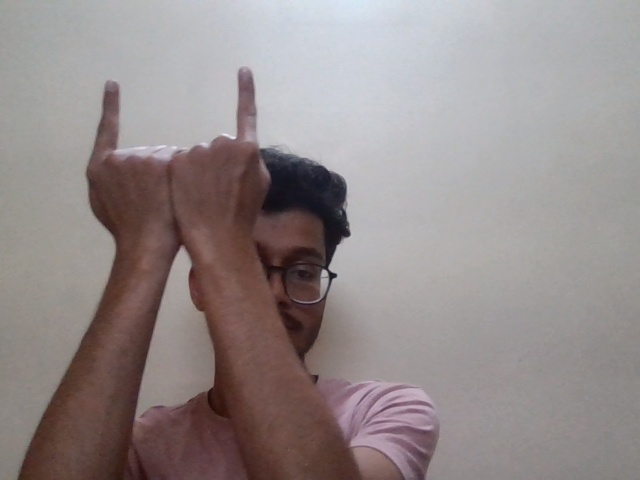when: (97, 55, 284, 254)
